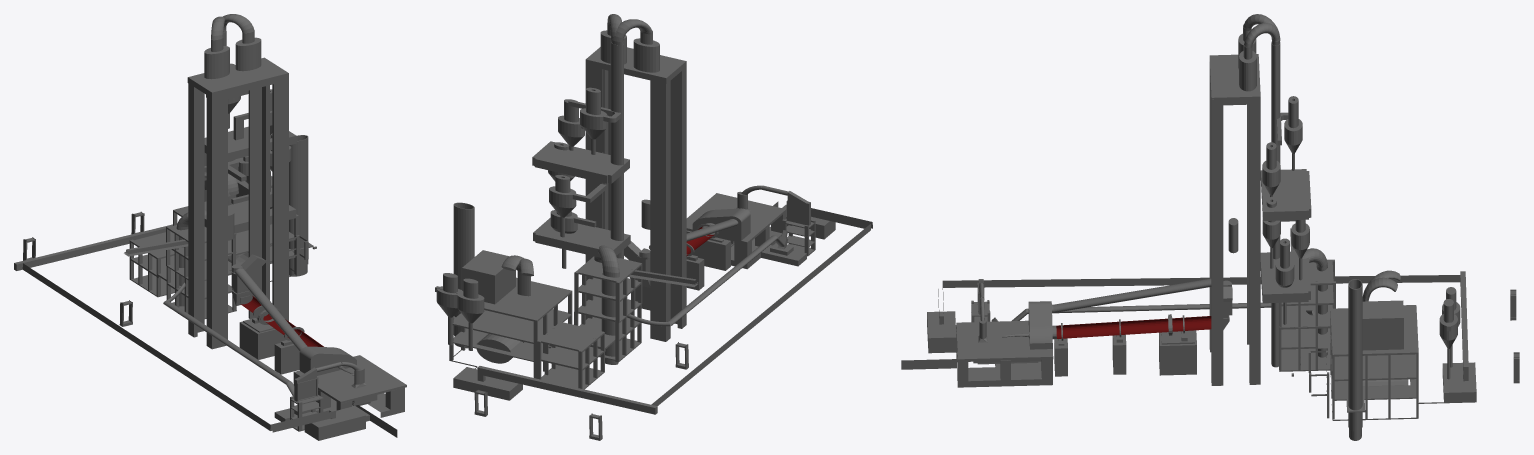
Rendered from preheater.glb.
The picture shows the model from 3 angles, left to right: view 1: azimuth 30°, elevation 25°; view 2: azimuth 150°, elevation 25°; view 3: azimuth 270°, elevation 25°; orthographic projection. The views are drawn at different scales.
Parts seen in each view (by area): view 1: G-Object.006; view 2: G-Object.006; view 3: G-Object.006.
Part boxes in pixels (x1,y1,x2,y2): G-Object.006: [14, 14, 406, 440]; G-Object.006: [435, 14, 872, 440]; G-Object.006: [901, 14, 1519, 440].
Size of the model in its own units: 10.4 by 12.69 by 20.1.
